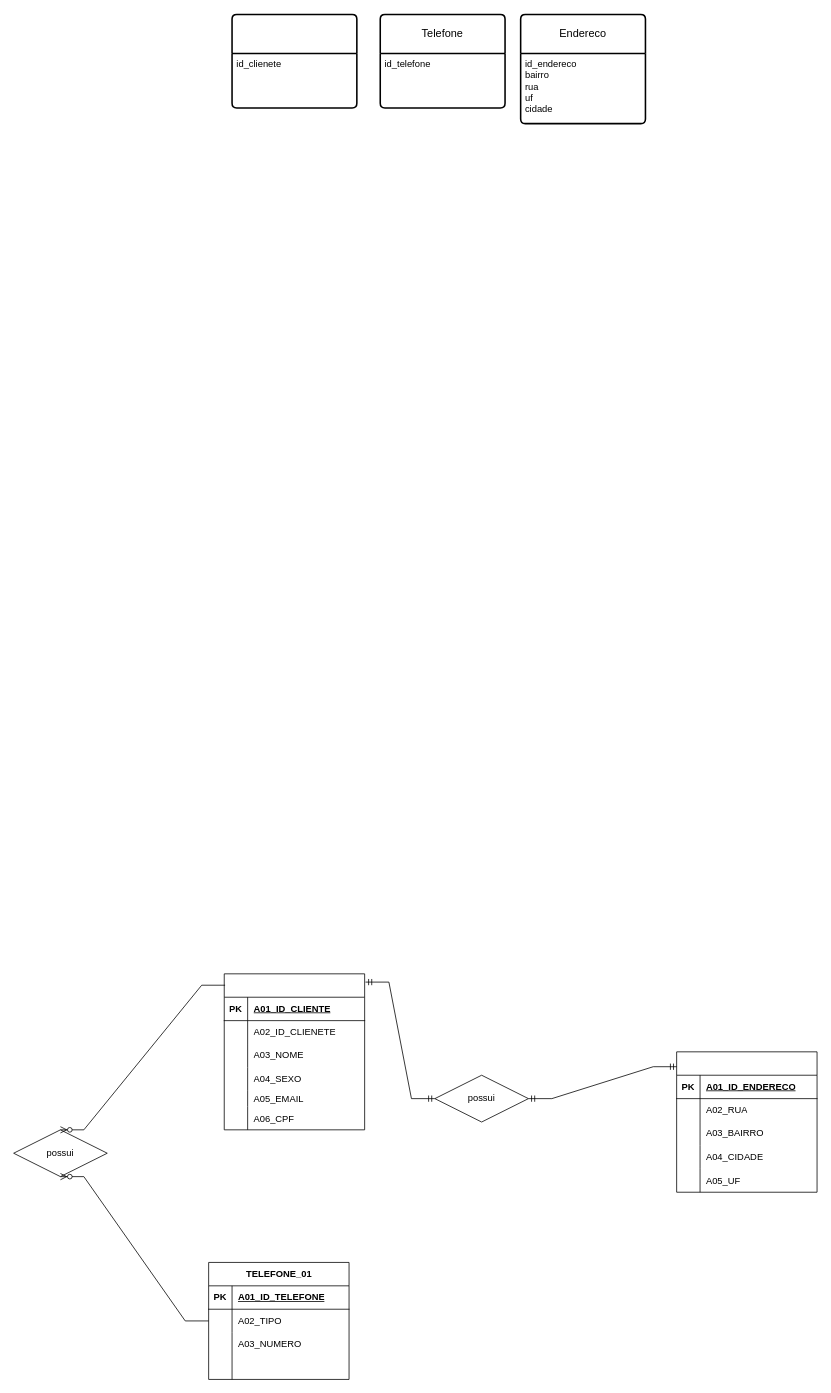
Image size: 831x1393. Some labels were removed from this diagram. The shapes that lost their labels are listed below. From the top down, each one's box as (x1, y1, x2, y2) in pixels, then its label:
(231, 13, 357, 108): Cliente
(223, 973, 365, 1130): CLIENTE_01
(676, 1051, 817, 1192): ENDERECO_01
